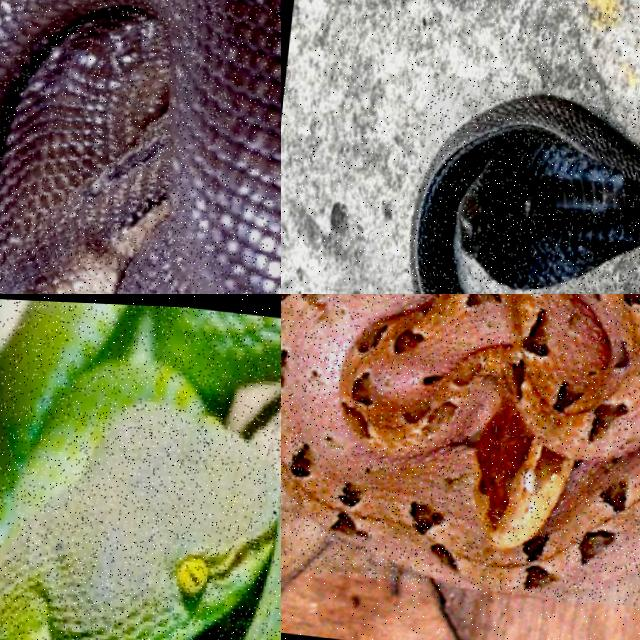Calloselasma rhodostoma: (281, 294, 639, 597)
Naja kaouthia: (0, 0, 280, 293)
Naja siamensis: (411, 96, 639, 293)
Trimeresurus macrops: (0, 301, 280, 639)
snake: (281, 294, 639, 597), (0, 301, 280, 639), (0, 0, 280, 293), (411, 96, 639, 293)
